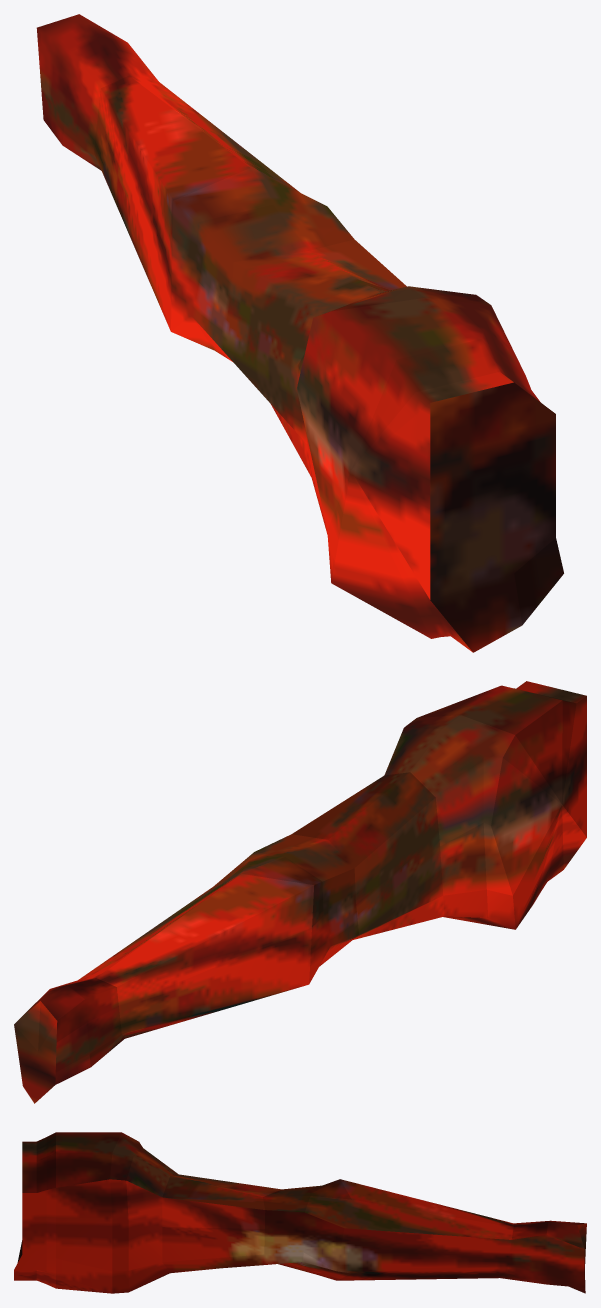
File: Leg_Gib.glb
The picture shows the model from 3 angles, top to bottom: view 1: azimuth 30°, elevation 25°; view 2: azimuth 150°, elevation 25°; view 3: azimuth 270°, elevation 25°; orthographic projection. The views are drawn at different scales.
Visible parts, largest first — view 1: Leg_Gib2; view 2: Leg_Gib2; view 3: Leg_Gib2.
Boxes of the visible parts, x1,y1,x2,y2 form: Leg_Gib2: [36, 14, 563, 652]; Leg_Gib2: [14, 681, 586, 1103]; Leg_Gib2: [14, 1132, 586, 1293].
Size of the model in its own units: 0.2533 by 0.2746 by 0.9819.
1 material, 1 textured.
